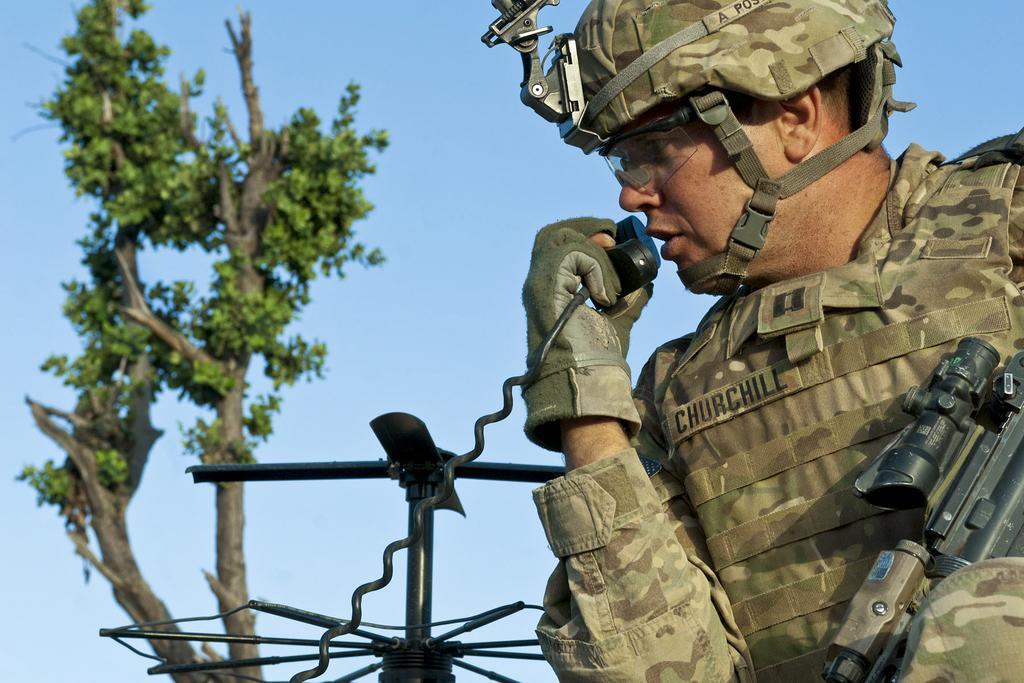Rifle: (854, 340, 1023, 682)
